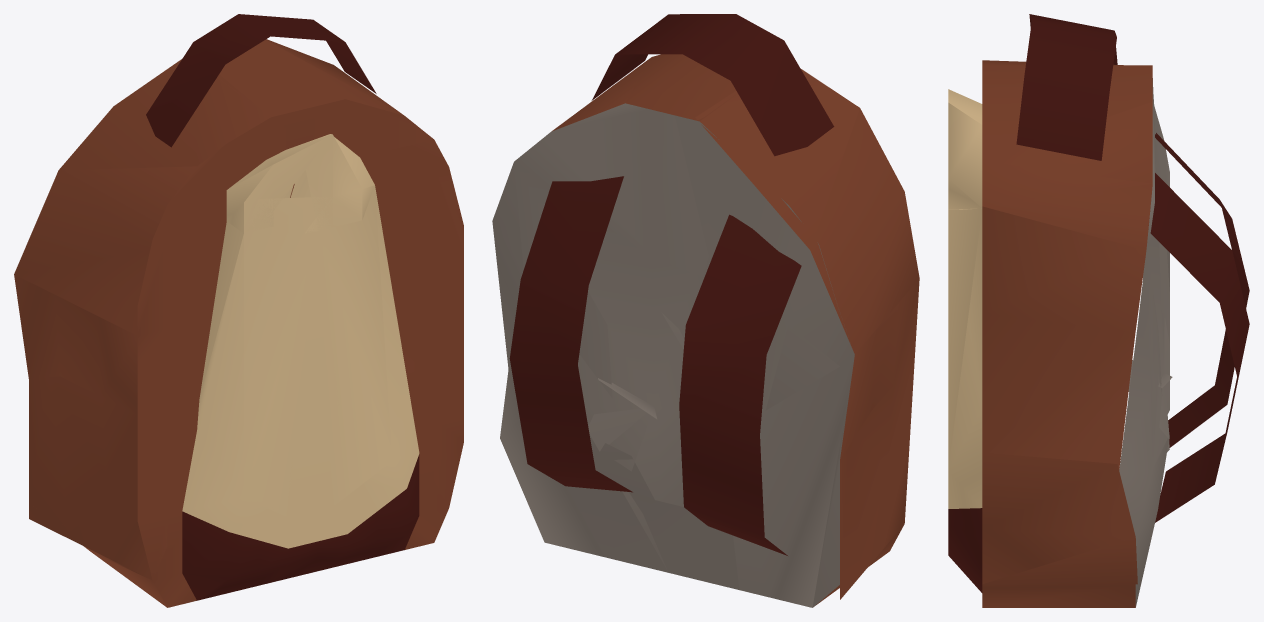
The model's file is backpack_02.gltf.
3 views of the same model, side by side, from view 1: azimuth 30°, elevation 25°; view 2: azimuth 150°, elevation 25°; view 3: azimuth 270°, elevation 25° (orthographic).
Bounding box in the file's own units: 12.72 × 16.83 × 8.84.
1 material, 1 textured.
